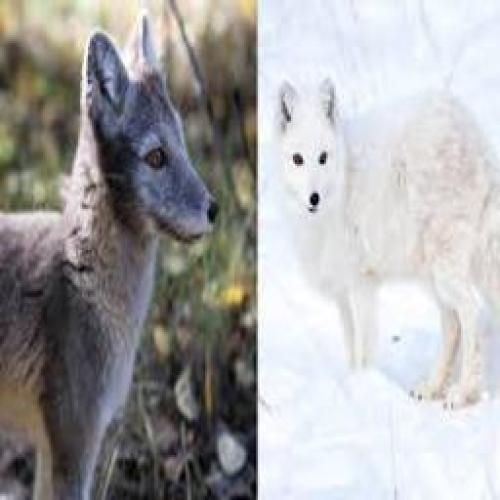arctic_fox-endangered: (0, 10, 213, 498), (260, 74, 500, 413)
